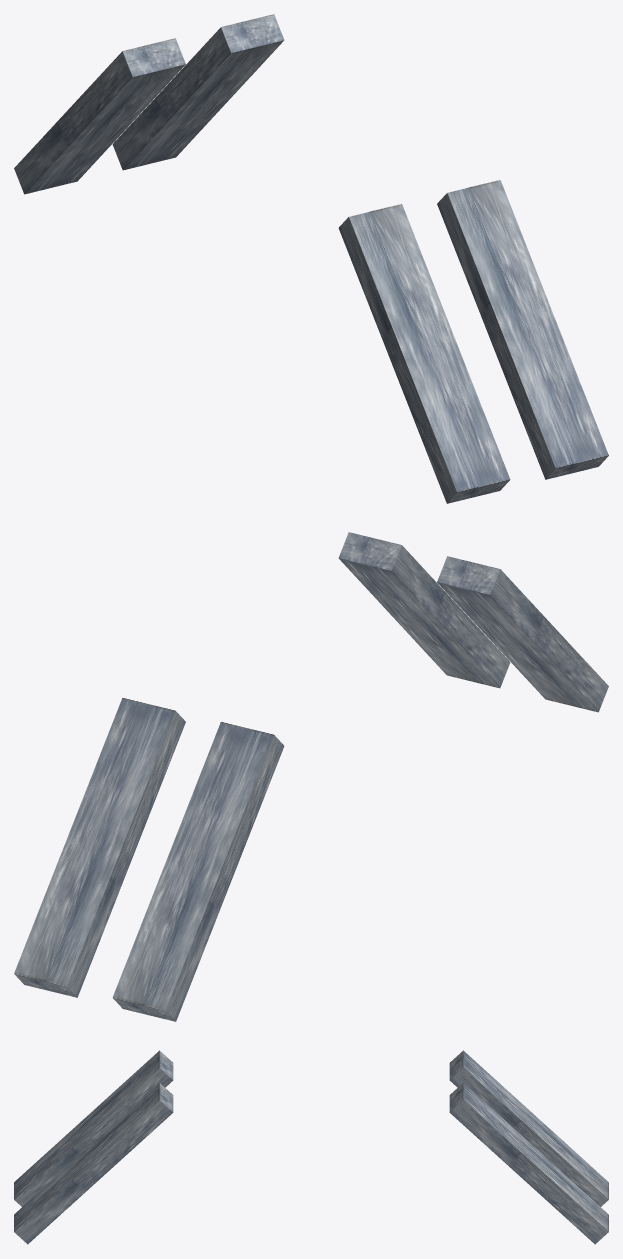
File: PlankBinders.fbx
3 renders of one model, top to bottom at view 1: azimuth 30°, elevation 25°; view 2: azimuth 150°, elevation 25°; view 3: azimuth 270°, elevation 25°, orthographic. The views are drawn at different scales.
Parts seen in each view (by area): view 1: BinderRight, BinderRight_2, BinderLeft, BinderLift; view 2: BinderLift, BinderLeft, BinderRight_2, BinderRight; view 3: BinderLift, BinderRight, BinderRight_2, BinderLeft.
Part boxes in pixels (x1,y1,x2,y2): BinderRight: [437, 180, 608, 479]; BinderRight_2: [338, 204, 510, 503]; BinderLeft: [14, 38, 185, 194]; BinderLift: [112, 14, 284, 170]; BinderLift: [14, 698, 185, 997]; BinderLeft: [112, 722, 284, 1021]; BinderRight_2: [437, 556, 608, 712]; BinderRight: [338, 532, 510, 688]; BinderLift: [449, 1083, 608, 1244]; BinderRight: [14, 1083, 173, 1244]; BinderRight_2: [14, 1050, 173, 1206]; BinderLeft: [449, 1050, 608, 1206].
Bounding box in the file's own units: 14.4 × 19.51 × 72.82.
1 material, 1 textured.
